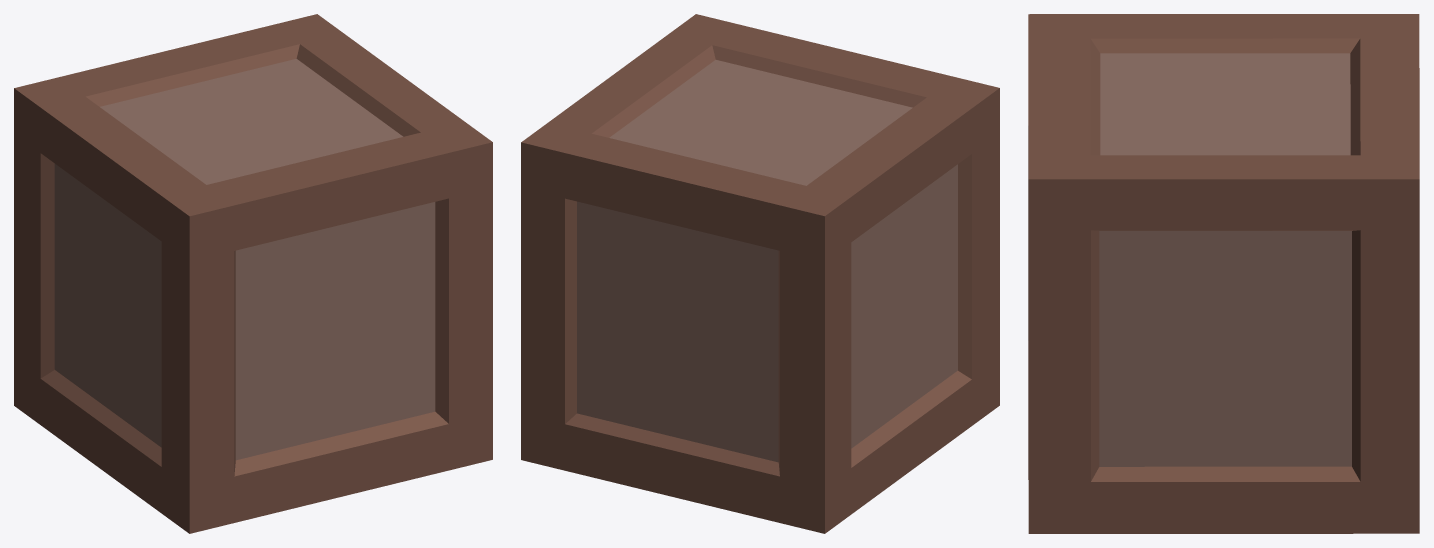
Rendered from Ship_005.fbx.
3 renders of one model, left to right at view 1: azimuth 30°, elevation 25°; view 2: azimuth 150°, elevation 25°; view 3: azimuth 270°, elevation 25°, orthographic. The views are drawn at different scales.
Parts seen in each view (by area): view 1: Ship_005; view 2: Ship_005; view 3: Ship_005.
Part boxes in pixels (box(x1,y1,x2,y2)): Ship_005: box(14, 14, 492, 533); Ship_005: box(521, 14, 999, 533); Ship_005: box(1028, 14, 1419, 533).
Size of the model in its own units: 60.39 by 60.39 by 60.33.
1 material, 1 textured.
